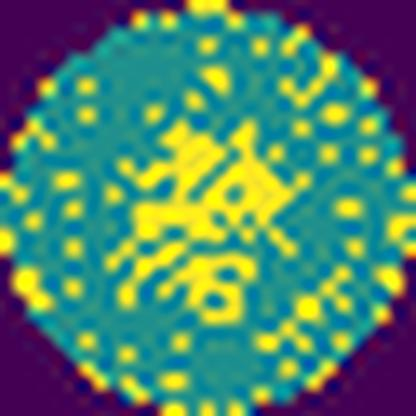Center: (104, 114, 308, 326)
